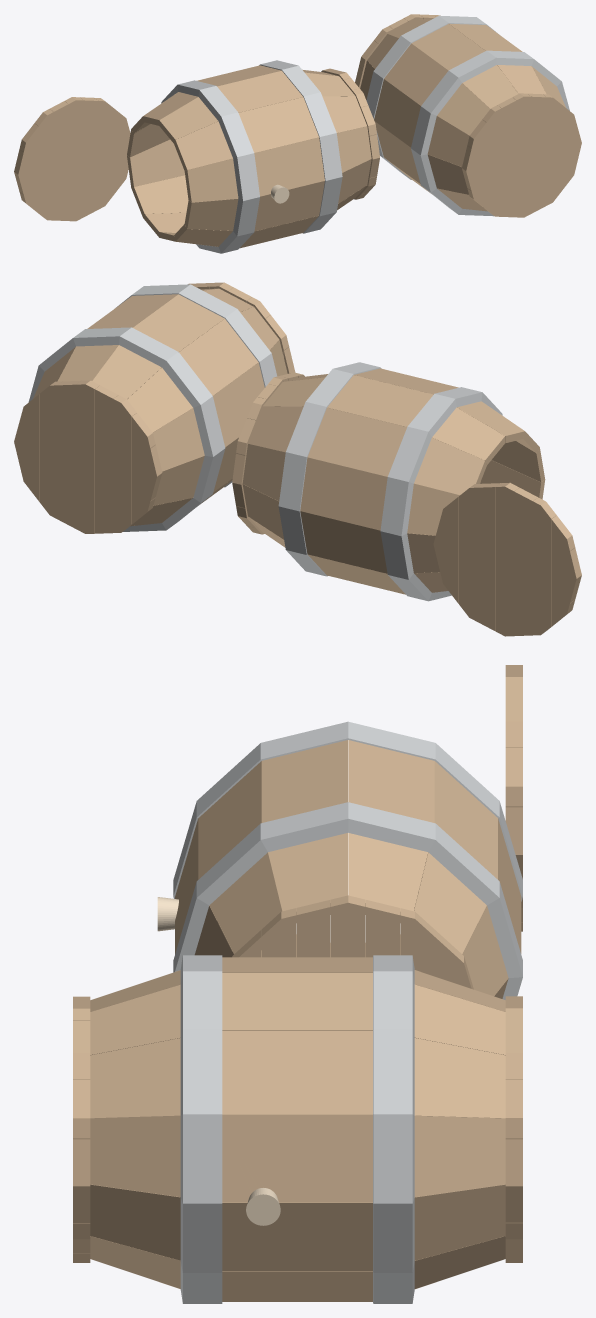
File: Medieval_Barrel.glb
3 views of the same model, one above another, from view 1: azimuth 30°, elevation 25°; view 2: azimuth 150°, elevation 25°; view 3: azimuth 270°, elevation 25° (orthographic). The views are drawn at different scales.
Visible parts, largest first — view 1: Node4, Node2, Node1, Node3, Node5, Node6; view 2: Node2, Node4, Node3, Node5, Node6, Node1; view 3: Node2, Node4, Node6, Node5, Node1, Node3.
Boxes of the visible parts, x1=… form: Node4: x1=127, y1=65, x2=379, y2=248; Node2: x1=355, y1=14, x2=565, y2=211; Node1: x1=462, y1=93, x2=581, y2=217; Node3: x1=14, y1=97, x2=130, y2=221; Node5: x1=161, y1=60, x2=342, y2=253; Node6: x1=366, y1=15, x2=569, y2=216; Node2: x1=14, y1=288, x2=287, y2=533; Node4: x1=232, y1=368, x2=545, y2=594; Node3: x1=433, y1=482, x2=581, y2=636; Node5: x1=278, y1=362, x2=502, y2=601; Node6: x1=28, y1=284, x2=277, y2=531; Node1: x1=188, y1=282, x2=295, y2=373; Node2: x1=90, y1=957, x2=522, y2=1301; Node4: x1=157, y1=740, x2=521, y2=998; Node6: x1=180, y1=955, x2=414, y2=1303; Node5: x1=173, y1=721, x2=522, y2=999; Node1: x1=73, y1=996, x2=90, y2=1262; Node3: x1=505, y1=665, x2=522, y2=931.
Size of the model in its own units: 64 by 20.2 by 26.
